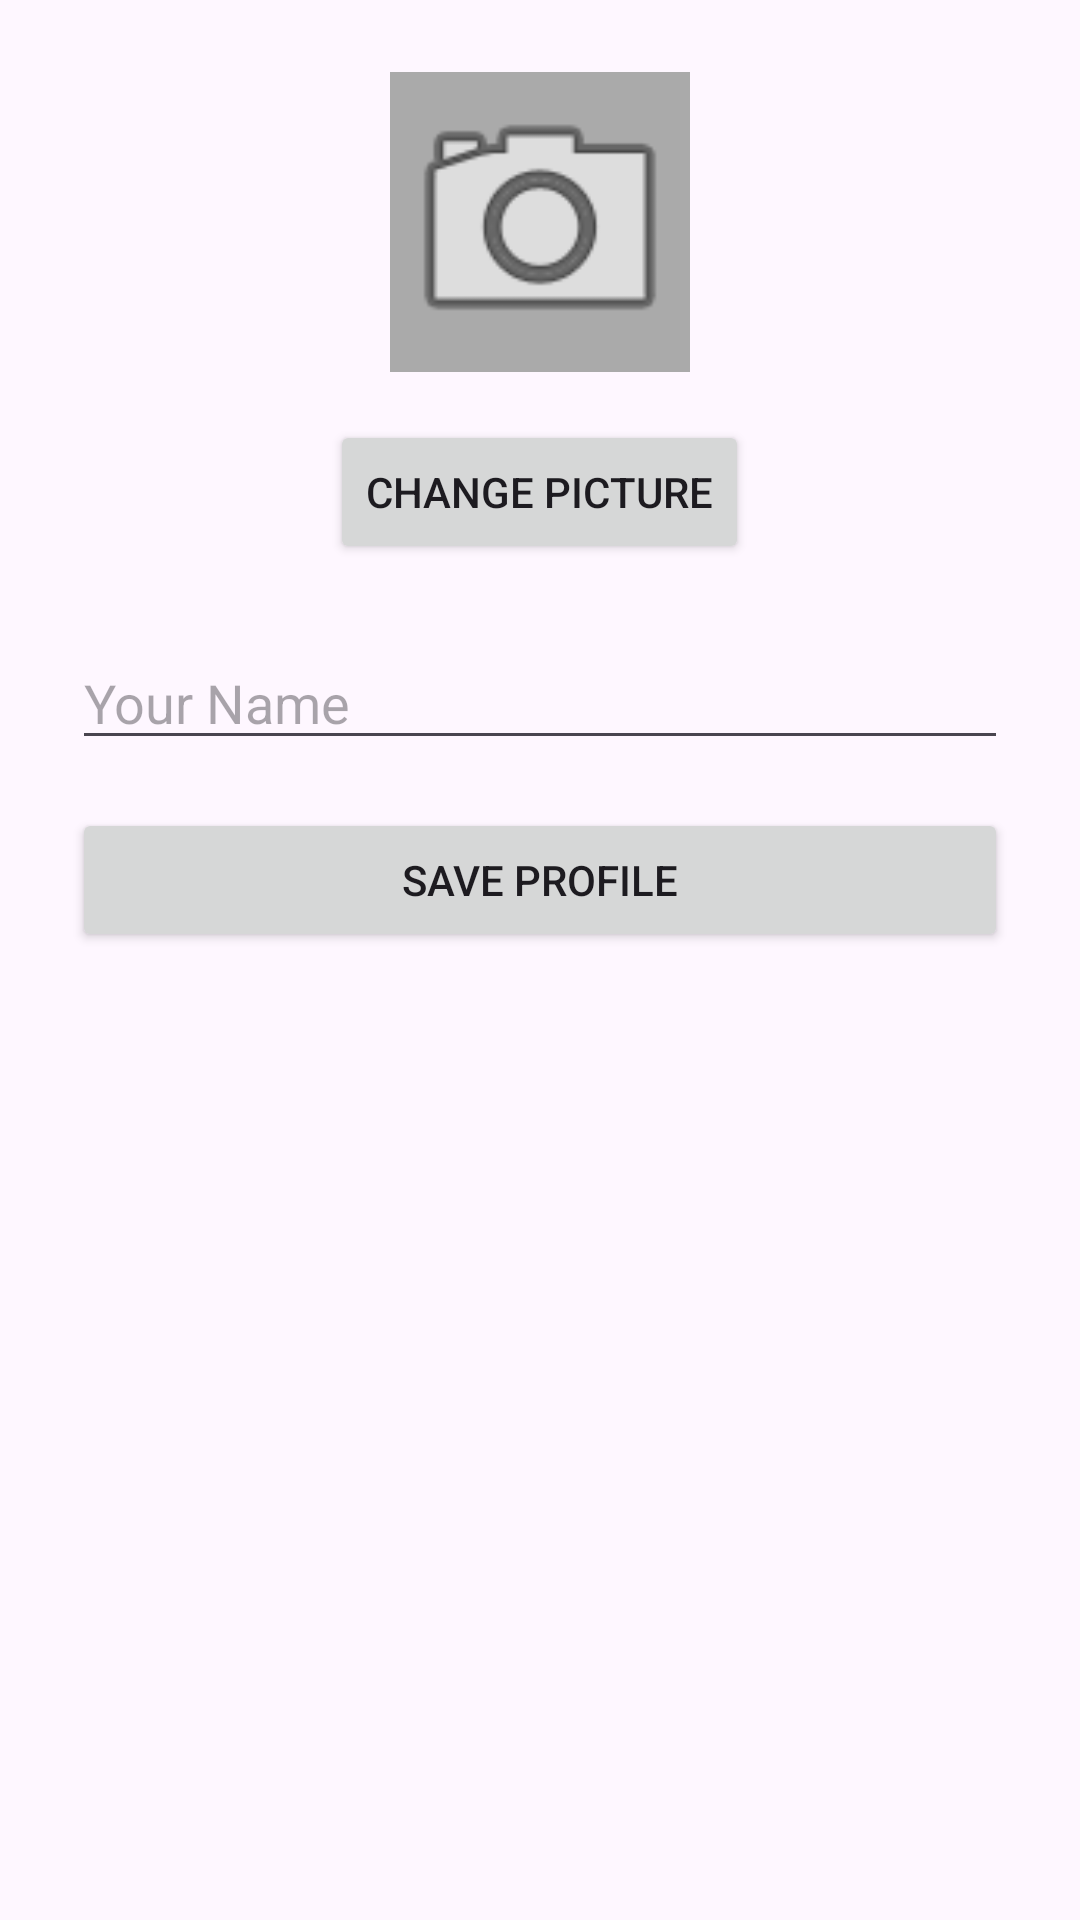

Point at icon controls on the screen. Image size 1080×1920, points as [x,y].
Profile Picture: [540,222]
